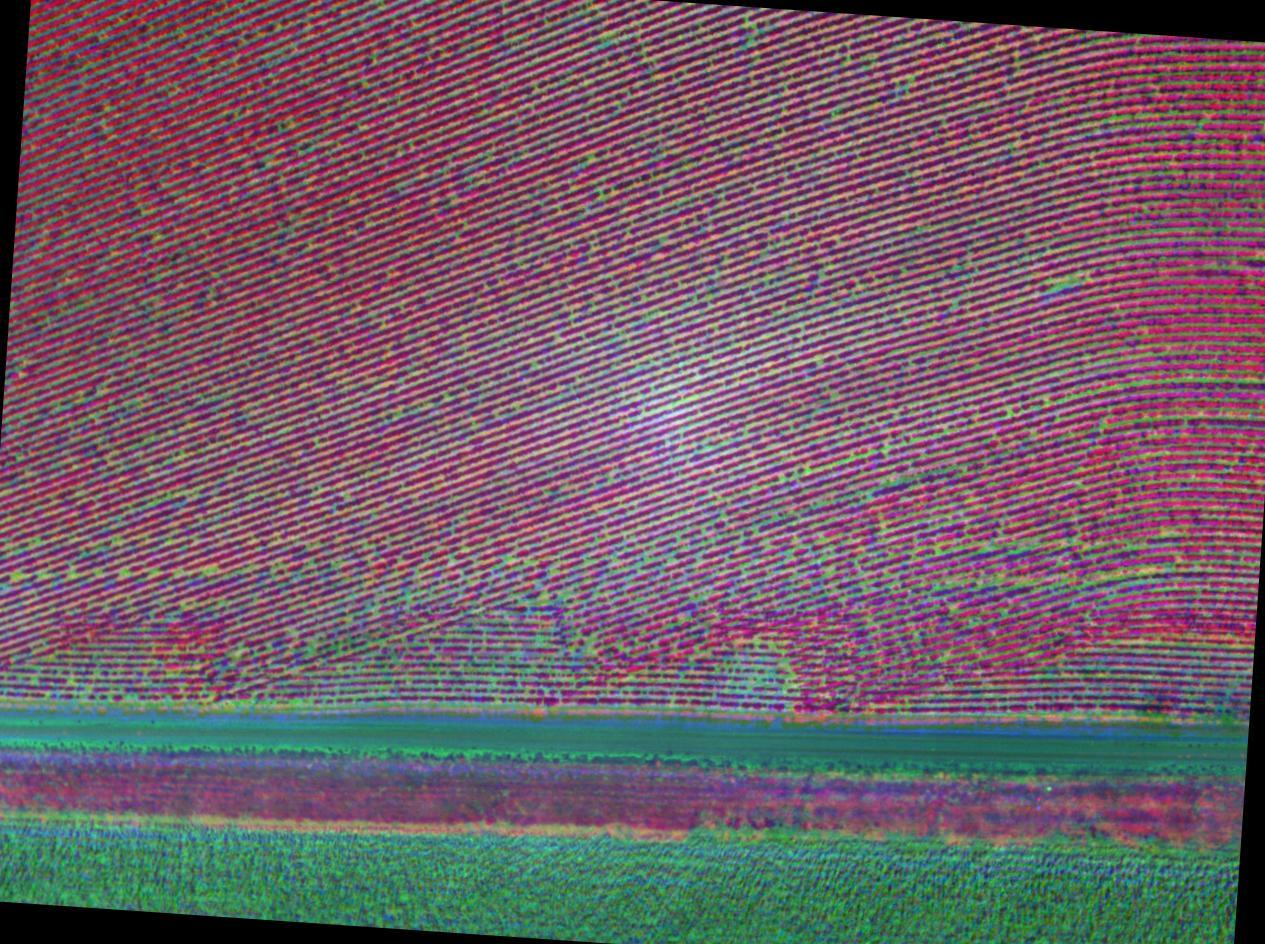dc: (584, 646, 592, 655), (951, 300, 958, 309), (818, 356, 824, 365), (762, 251, 767, 258), (444, 392, 449, 399)
